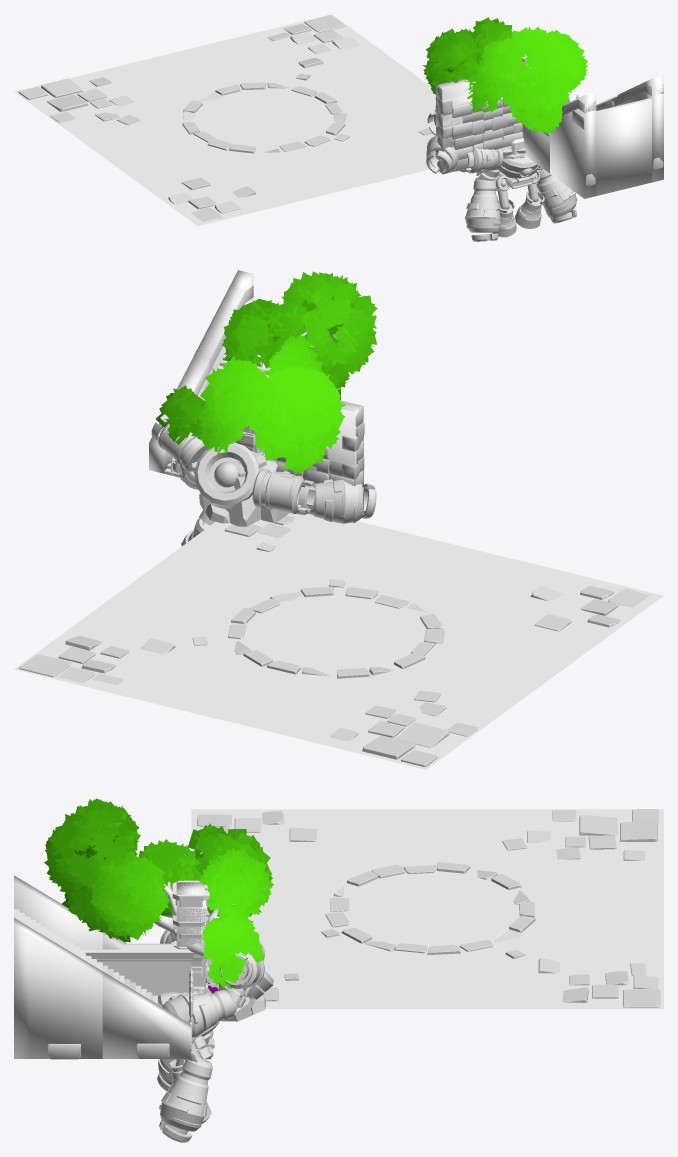
File: Master Collection.fbx
The picture shows the model from 3 angles, top to bottom: view 1: azimuth 30°, elevation 25°; view 2: azimuth 150°, elevation 25°; view 3: azimuth 270°, elevation 25°; orthographic projection. The views are drawn at different scales.
Visible parts, largest first — view 1: Floor_low_C, Leaves, Stairs_high_low_C, Floow_mid, NPC 02 Rig Model.002, Wall_4x0.6x4_low, Wall_4x0.6x3.5_low, NPC 02 Rig Model.001, Stairs_high_handles_low, Wall_4x0.6x3.5_low_C, Wall_4x0.6x2.5_low, Wall_4x0.6x4_low_C (+2 smaller); view 2: Floor_low_C, Leaves, Floow_mid, NPC 02 Rig Model.001, Stairs_high_low_C, Rock_01_low, Stairs_high_handles_low, Wall_4x0.6x4_low_C, Wall_4x0.6x4_low, Wall_4x0.6x3.5_low; view 3: Floor_low_C, Leaves, Stairs_high_low_C, Floow_mid, NPC 02 Rig Model.002, NPC 02 Rig Model.001, Arc_Side_low_C, Stairs_high_low, Arc_Side_high.test, pillar_45_low_C, pillar_45_low, pillar_4_low_C (+5 smaller).
Boxes of the visible parts, <box> form: Floor_low_C: <box>14,14,435,225</box>; Leaves: <box>422,17,587,134</box>; Stairs_high_low_C: <box>523,75,663,198</box>; Floow_mid: <box>18,15,432,222</box>; NPC 02 Rig Model.002: <box>460,148,577,241</box>; Wall_4x0.6x4_low: <box>436,81,522,170</box>; Wall_4x0.6x3.5_low: <box>435,98,522,170</box>; NPC 02 Rig Model.001: <box>426,110,512,174</box>; Stairs_high_handles_low: <box>562,83,663,115</box>; Wall_4x0.6x3.5_low_C: <box>436,93,502,171</box>; Wall_4x0.6x2.5_low: <box>436,107,519,171</box>; Wall_4x0.6x4_low_C: <box>436,78,475,99</box>; Floor_low_C: <box>14,513,663,769</box>; Leaves: <box>156,271,377,473</box>; Floow_mid: <box>19,515,649,767</box>; NPC 02 Rig Model.001: <box>151,414,376,523</box>; Stairs_high_low_C: <box>149,270,340,473</box>; Rock_01_low: <box>199,450,289,526</box>; Stairs_high_handles_low: <box>166,285,253,456</box>; Wall_4x0.6x4_low_C: <box>327,400,363,486</box>; Wall_4x0.6x4_low: <box>277,401,364,499</box>; Wall_4x0.6x3.5_low: <box>268,426,363,485</box>; Floor_low_C: <box>191,809,663,1008</box>; Leaves: <box>44,798,273,989</box>; Stairs_high_low_C: <box>14,875,191,1058</box>; Floow_mid: <box>197,809,660,1007</box>; NPC 02 Rig Model.002: <box>157,1021,219,1142</box>; NPC 02 Rig Model.001: <box>158,930,273,1037</box>; Arc_Side_low_C: <box>85,945,191,996</box>; Stairs_high_low: <box>14,909,161,1005</box>; Arc_Side_high.test: <box>85,943,194,961</box>; pillar_45_low_C: <box>176,882,205,947</box>; pillar_45_low: <box>172,880,210,943</box>; pillar_4_low_C: <box>176,908,205,947</box>.
Bounding box in the file's own units: 2005 × 1110 × 2200.
